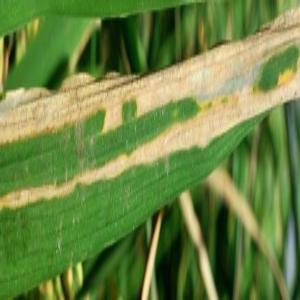Hawar Daun: (138, 53, 202, 118), (1, 86, 61, 146), (129, 128, 194, 165)
